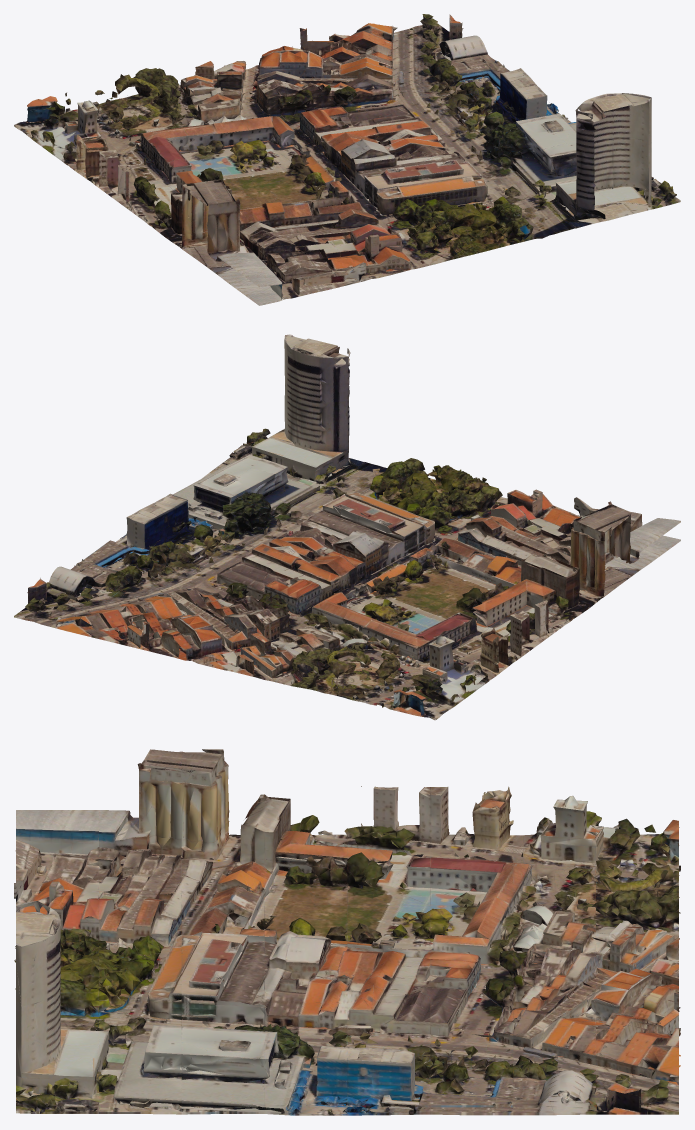
File: bom_jesus_arsenal_norte.glb
3 renders of one model, top to bottom at view 1: azimuth 30°, elevation 25°; view 2: azimuth 150°, elevation 25°; view 3: azimuth 270°, elevation 25°, orthographic. The views are drawn at different scales.
Parts seen in each view (by area): view 1: bom_jesus_arsenal_norte; view 2: bom_jesus_arsenal_norte; view 3: bom_jesus_arsenal_norte.
Part boxes in pixels (x1,y1,x2,y2): bom_jesus_arsenal_norte: [14, 14, 680, 305]; bom_jesus_arsenal_norte: [14, 334, 680, 720]; bom_jesus_arsenal_norte: [14, 749, 680, 1115].
Bounding box in the file's own units: 307 × 78.17 × 309.
1 material, 1 textured.
